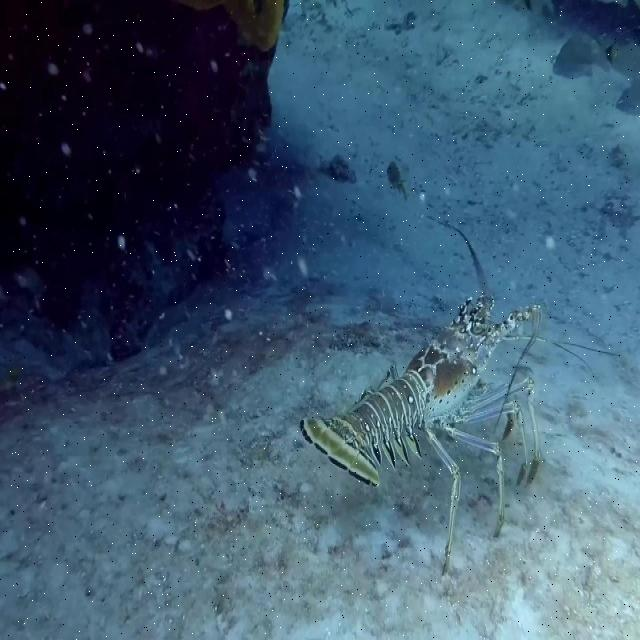reefs: (301, 291, 542, 566)
